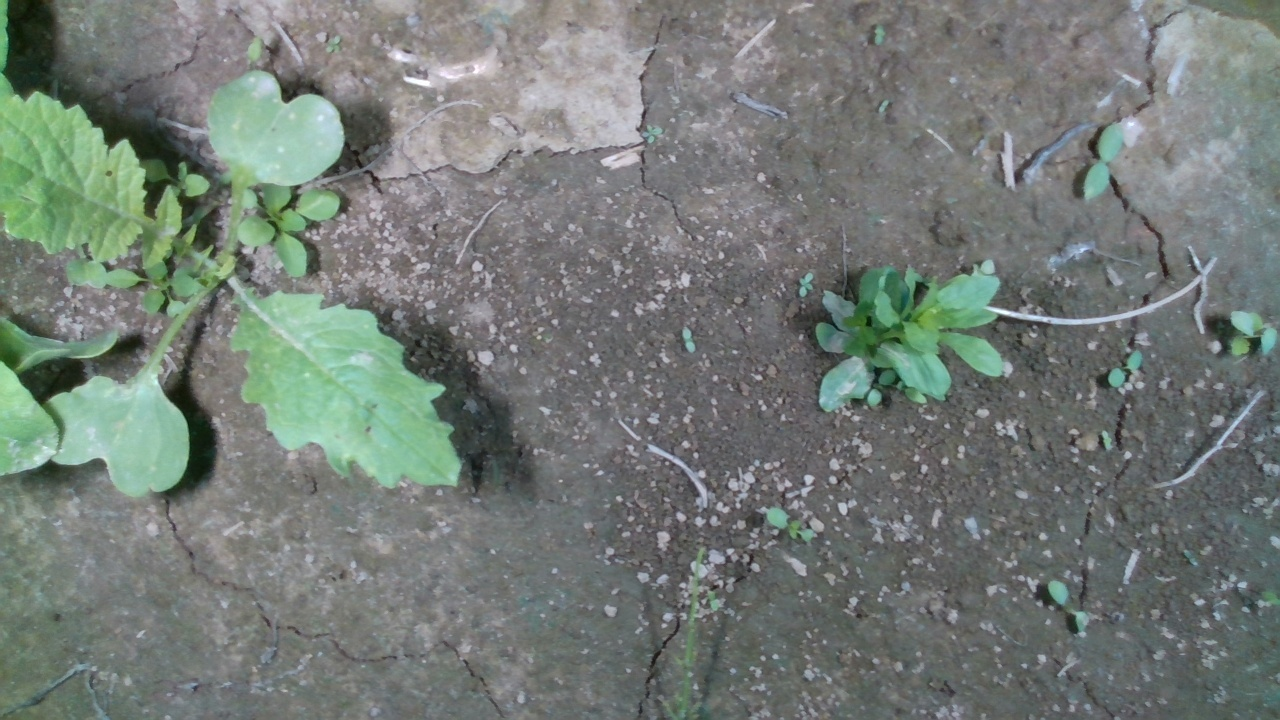weed: (1080, 121, 1124, 201), (1046, 578, 1091, 632), (763, 506, 815, 543), (1105, 349, 1143, 389), (795, 271, 816, 298), (680, 325, 696, 355), (324, 33, 342, 53)
